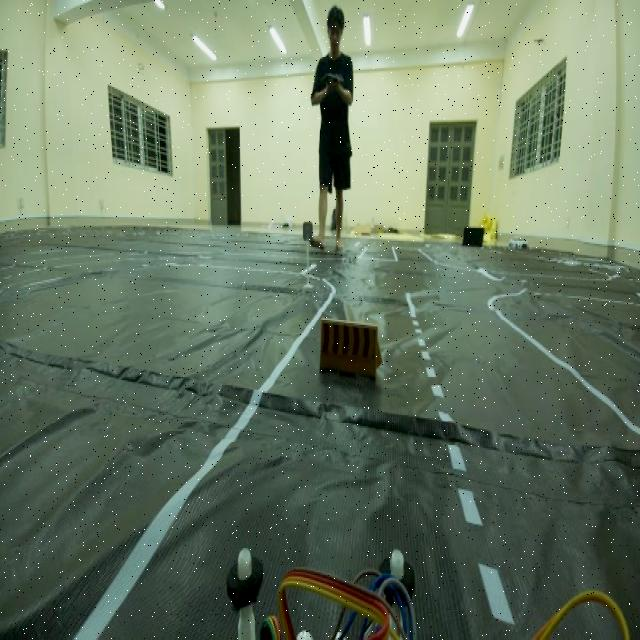roadblock: (311, 313, 389, 392)
